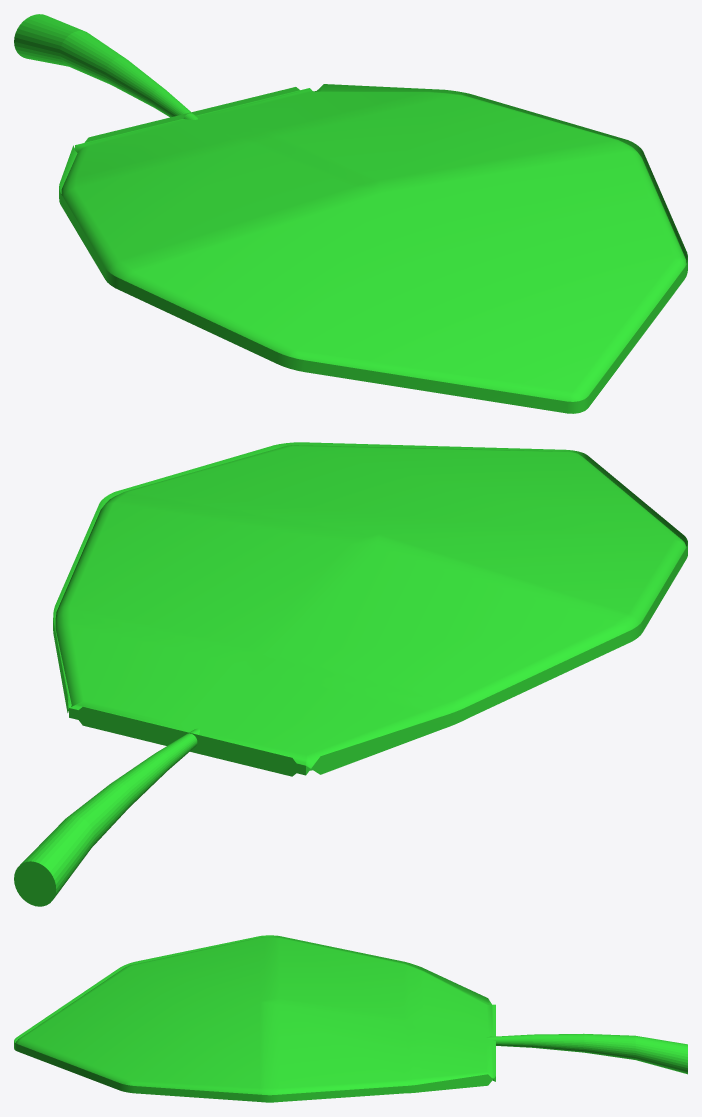
Rendered from Leaf.fbx.
3 renders of one model, top to bottom at view 1: azimuth 30°, elevation 25°; view 2: azimuth 150°, elevation 25°; view 3: azimuth 270°, elevation 25°, orthographic. The views are drawn at different scales.
Visible parts, largest first — view 1: Plane; view 2: Plane; view 3: Plane.
Part boxes in pixels (x1=…): Plane: x1=14, y1=14, x2=687, y2=413; Plane: x1=14, y1=442, x2=687, y2=906; Plane: x1=14, y1=935, x2=687, y2=1102.
Bounding box in the file's own units: 1786 × 378 × 3182.
